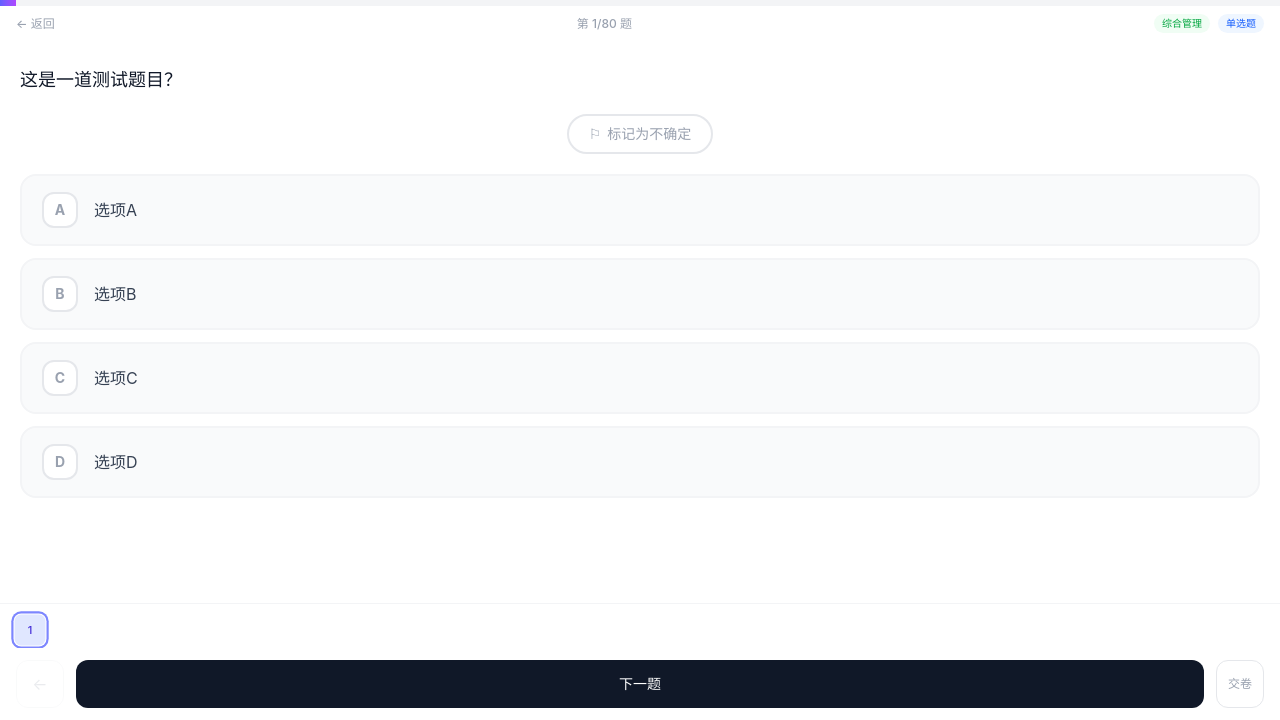
QuizPage — 返回首页按钮 › 显示已答题数
This screenshot has width=1280, height=720.
Expected: the text "这是一道测试题目？" is shown, [20, 69, 182, 90]
Click the button "← 返回" at (35, 24), box [16, 16, 55, 32]
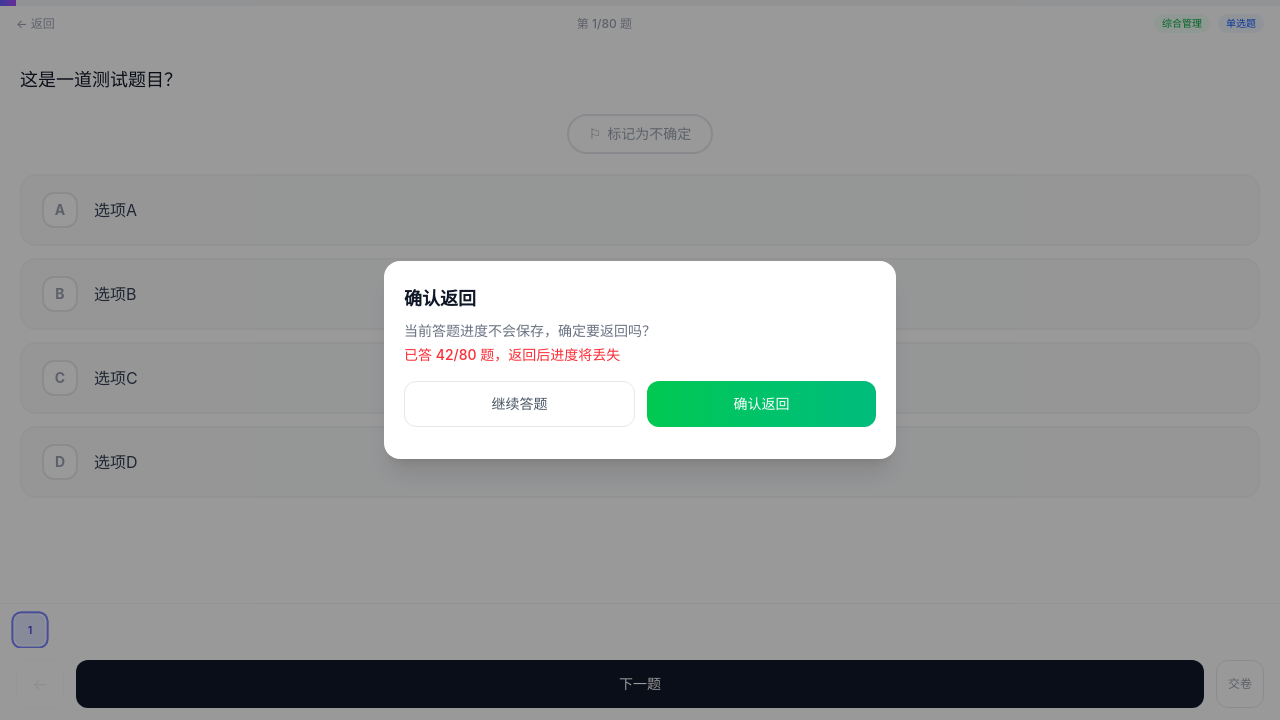
Now the text "已答 42/80 题，返回后进度将丢失" is shown, box [404, 346, 620, 363]
